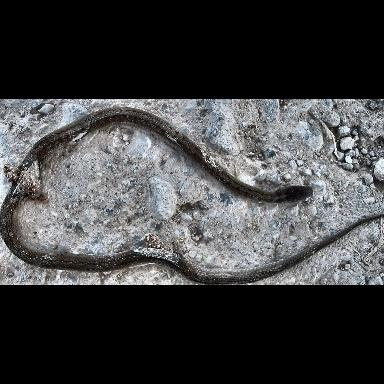snake: (0, 101, 383, 285)
